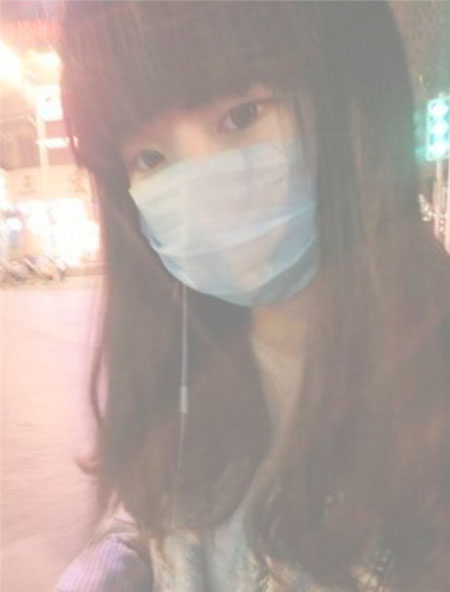face_mask: (126, 41, 310, 300)
